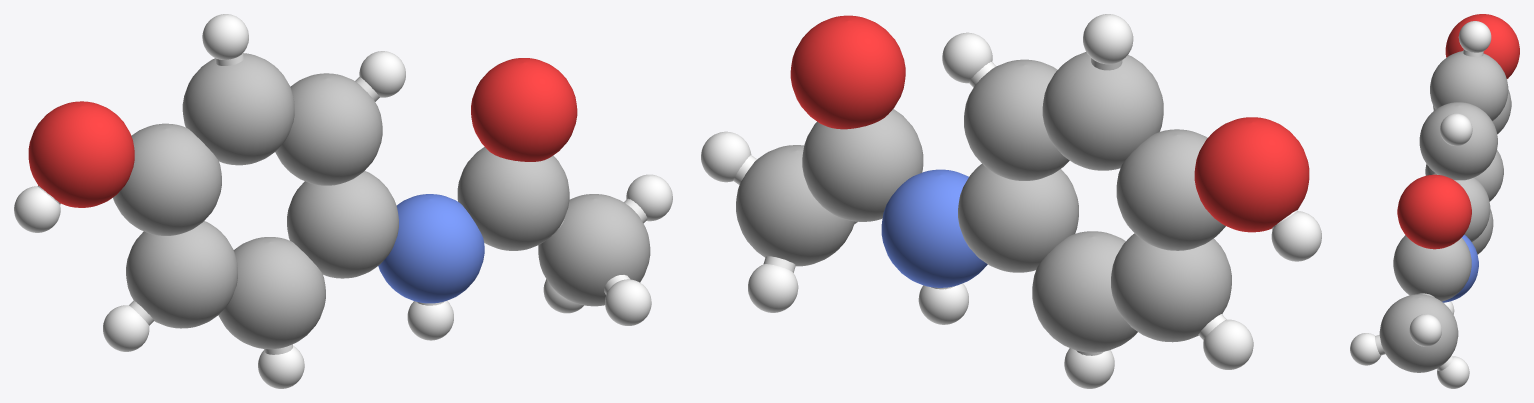
File: acetaminofen.glb
The picture shows the model from 3 angles, left to right: view 1: azimuth 30°, elevation 25°; view 2: azimuth 150°, elevation 25°; view 3: azimuth 270°, elevation 25°; orthographic projection. The views are drawn at different scales.
Parts seen in each view (by area): view 1: Carbon_ball_2, Carbon_ball_6, Carbon_ball_4, Carbon_ball_10, Oxygen_ball, Carbon_ball_8, Carbon_ball, Oxygen_ball_2, Carbon_ball_14, Carbon_ball_12, Nitrogen_ball, Hydrogen_ball_12 (+9 smaller); view 2: Carbon_ball_2, Oxygen_ball_2, Oxygen_ball, Carbon_ball_6, Carbon_ball_4, Carbon_ball_12, Carbon_ball_8, Carbon_ball_10, Carbon_ball, Carbon_ball_14, Nitrogen_ball, Hydrogen_ball_6 (+9 smaller); view 3: Oxygen_ball_2, Carbon_ball_14, Carbon_ball_10, Carbon_ball_2, Carbon_ball_12, Oxygen_ball, Carbon_ball_4, Hydrogen_ball_4, Hydrogen_ball_14, Hydrogen_ball_6, Carbon_ball_6, Hydrogen_ball_12 (+6 smaller).
Boxes of the visible parts, x1=… form: Carbon_ball_2: x1=182, y1=53, x2=294, y2=165; Carbon_ball_6: x1=126, y1=221, x2=237, y2=328; Carbon_ball_4: x1=287, y1=171, x2=398, y2=278; Carbon_ball_10: x1=275, y1=73, x2=382, y2=185; Oxygen_ball: x1=28, y1=101, x2=134, y2=207; Carbon_ball_8: x1=113, y1=123, x2=221, y2=235; Carbon_ball: x1=218, y1=237, x2=325, y2=349; Oxygen_ball_2: x1=471, y1=58, x2=577, y2=161; Carbon_ball_14: x1=538, y1=194, x2=650, y2=306; Carbon_ball_12: x1=457, y1=147, x2=569, y2=250; Nitrogen_ball: x1=378, y1=194, x2=484, y2=303; Hydrogen_ball_12: x1=605, y1=279, x2=651, y2=325; Carbon_ball_2: x1=1042, y1=52, x2=1163, y2=170; Oxygen_ball_2: x1=790, y1=15, x2=905, y2=129; Oxygen_ball: x1=1194, y1=117, x2=1309, y2=232; Carbon_ball_6: x1=1111, y1=233, x2=1231, y2=342; Carbon_ball_4: x1=958, y1=164, x2=1078, y2=272; Carbon_ball_12: x1=802, y1=109, x2=923, y2=221; Carbon_ball_8: x1=1116, y1=129, x2=1225, y2=250; Carbon_ball_10: x1=964, y1=59, x2=1069, y2=180; Carbon_ball: x1=1032, y1=231, x2=1137, y2=352; Carbon_ball_14: x1=736, y1=145, x2=854, y2=266; Nitrogen_ball: x1=881, y1=169, x2=987, y2=287; Hydrogen_ball_6: x1=1083, y1=14, x2=1133, y2=64; Oxygen_ball_2: x1=1397, y1=174, x2=1471, y2=249; Carbon_ball_14: x1=1379, y1=294, x2=1458, y2=372; Carbon_ball_10: x1=1419, y1=102, x2=1497, y2=180; Carbon_ball_2: x1=1430, y1=51, x2=1508, y2=120; Carbon_ball_12: x1=1393, y1=235, x2=1471, y2=301; Oxygen_ball: x1=1445, y1=14, x2=1519, y2=78; Carbon_ball_4: x1=1432, y1=173, x2=1490, y2=241; Hydrogen_ball_4: x1=1440, y1=113, x2=1472, y2=145; Hydrogen_ball_14: x1=1409, y1=314, x2=1441, y2=346; Hydrogen_ball_6: x1=1458, y1=21, x2=1491, y2=52; Carbon_ball_6: x1=1425, y1=150, x2=1503, y2=201; Hydrogen_ball_12: x1=1350, y1=333, x2=1380, y2=365.
Bounding box in the file's own units: 9.65 × 5.52 × 3.33.
